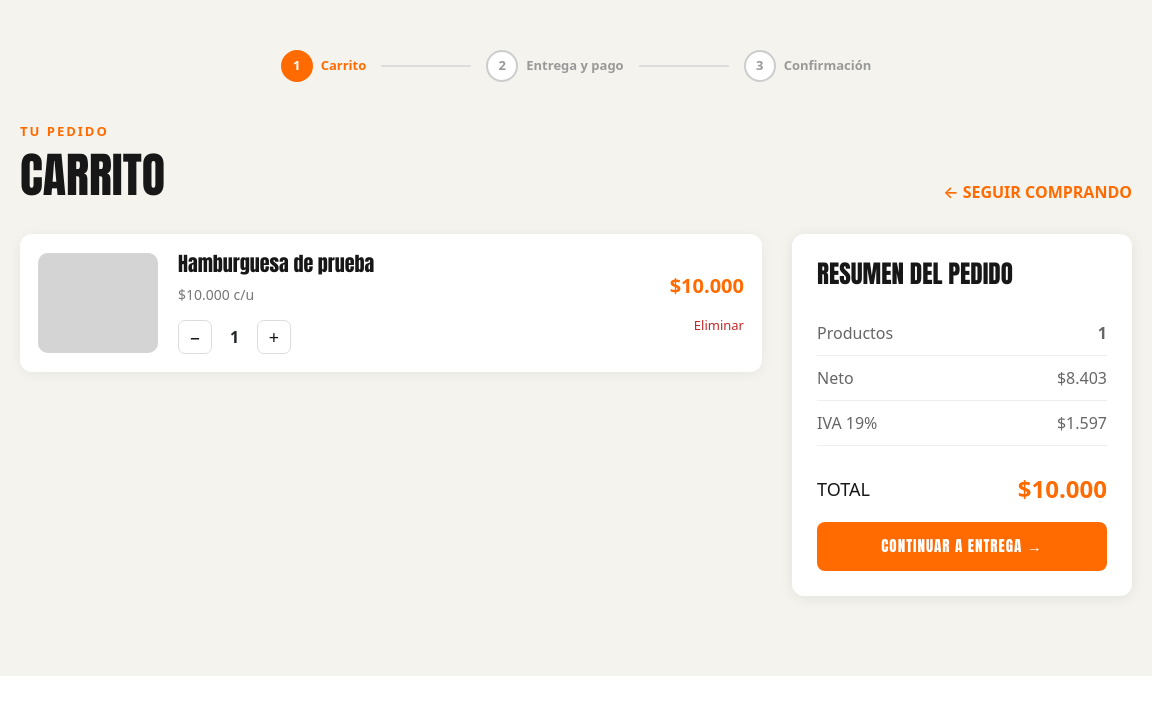
Test: Carrito: almacenamiento y pantalla de compra › Interfaz real del carrito (Carrito.jsx) › 15. Permite aumentar la cantidad y actualiza el importe
Click the button "+". click: [274, 337]
box: [257,320,291,354]
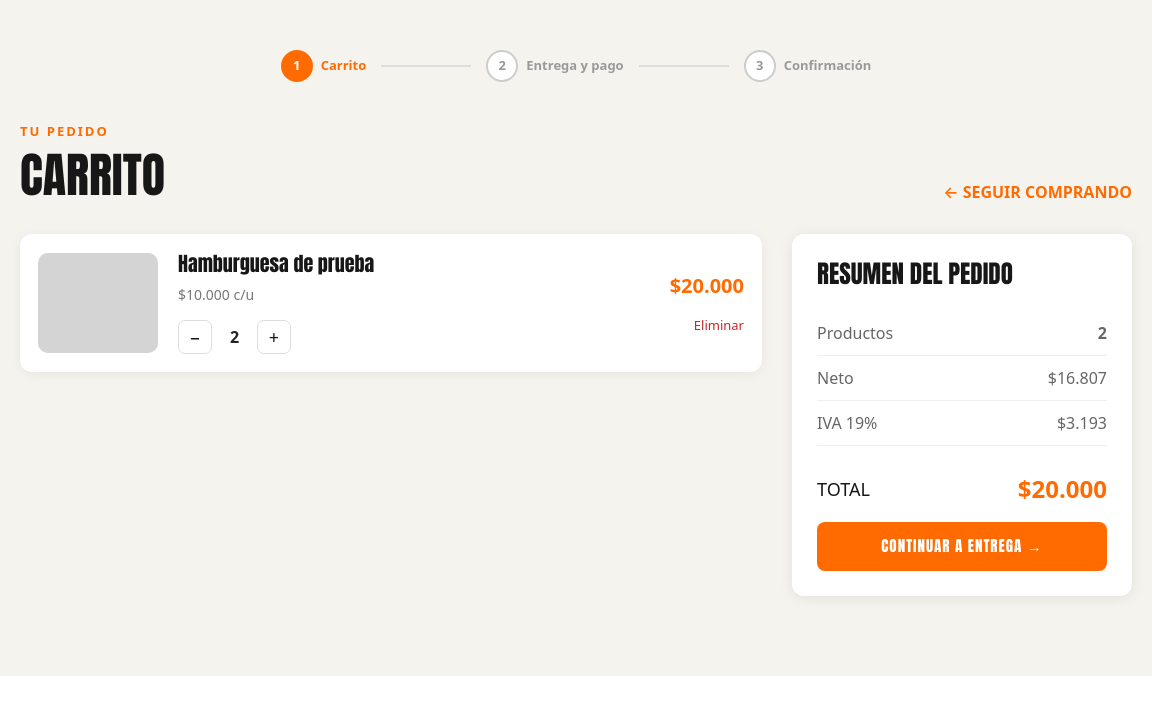
expect the text "$20.000" next to "TOTAL" is shown: met, box [1018,471,1107,507]
